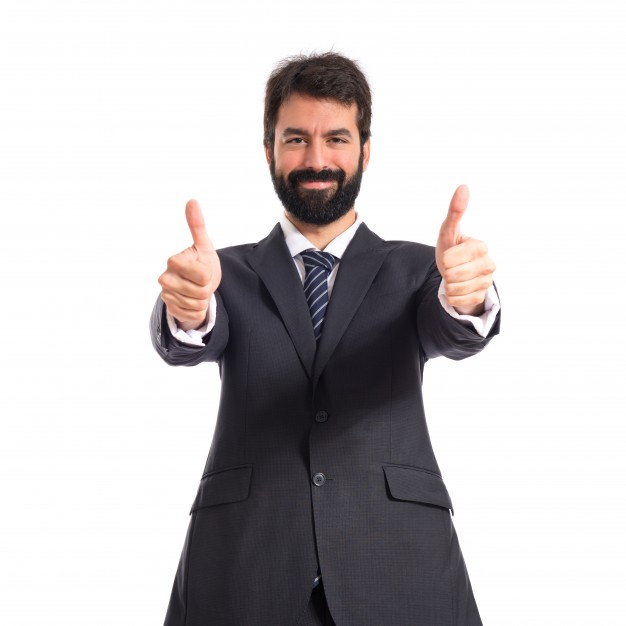thumbsup: (157, 199, 214, 322), (442, 185, 496, 306)
